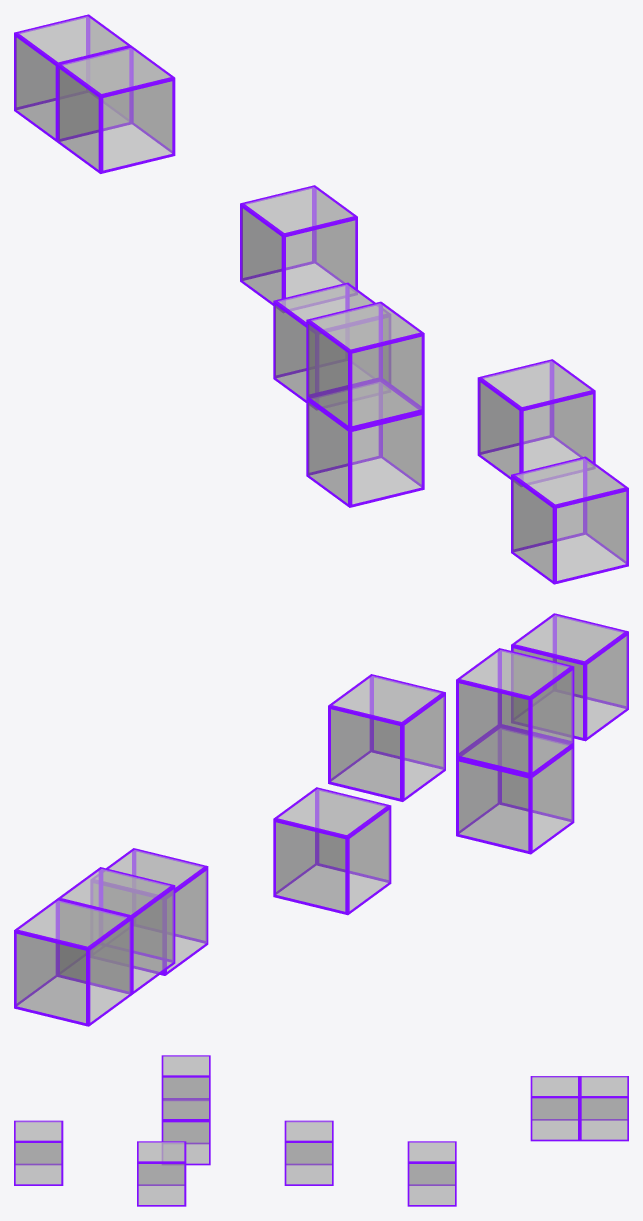
File: (2)Easy Wall.fbx
3 renders of one model, top to bottom at view 1: azimuth 30°, elevation 25°; view 2: azimuth 150°, elevation 25°; view 3: azimuth 270°, elevation 25°, orthographic. The views are drawn at different scales.
Visible parts, largest first — view 1: Wall.027, Wall.030, Wall.024, Wall.026, Wall.028, Wall.029, Wall.031, Wall.025; view 2: Wall.025, Wall.027, Wall.031, Wall.028, Wall.026, Wall.030, Wall.024, Wall.029; view 3: Wall.027, Wall.028, Wall.029, Wall.024, Wall.025, Wall.030, Wall.031, Wall.026.
Boxes of the visible parts, <box> form: Wall.027: <box>306,301,424,429</box>; Wall.030: <box>57,46,175,173</box>; Wall.024: <box>511,456,628,584</box>; Wall.026: <box>306,380,424,507</box>; Wall.028: <box>477,359,595,486</box>; Wall.029: <box>240,185,357,312</box>; Wall.031: <box>14,14,131,142</box>; Wall.025: <box>273,282,390,409</box>; Wall.025: <box>273,787,391,915</box>; Wall.027: <box>456,648,574,775</box>; Wall.031: <box>14,898,131,1026</box>; Wall.028: <box>328,674,445,801</box>; Wall.026: <box>456,726,574,854</box>; Wall.030: <box>57,867,175,994</box>; Wall.024: <box>511,613,628,741</box>; Wall.029: <box>91,848,208,975</box>; Wall.027: <box>161,1055,210,1120</box>; Wall.028: <box>137,1141,186,1206</box>; Wall.029: <box>407,1141,456,1206</box>; Wall.024: <box>14,1120,63,1185</box>; Wall.025: <box>284,1120,333,1185</box>; Wall.030: <box>530,1076,579,1141</box>; Wall.031: <box>579,1076,628,1141</box>; Wall.026: <box>161,1099,210,1165</box>.
Bounding box in the file's own units: 600 × 400 × 2500.
